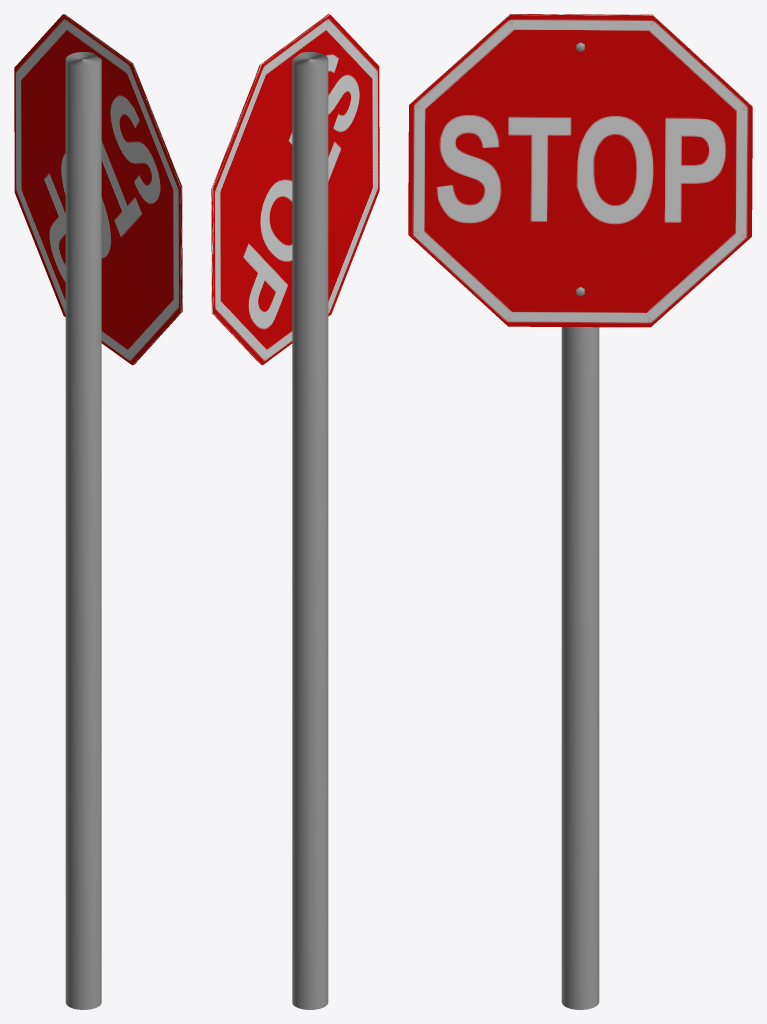
File: StopSign.fbx
3 renders of one model, left to right at view 1: azimuth 30°, elevation 25°; view 2: azimuth 150°, elevation 25°; view 3: azimuth 270°, elevation 25°, orthographic. The views are drawn at different scales.
Parts seen in each view (by area): view 1: Cylinder, Cylinder_001; view 2: Cylinder, Cylinder_001; view 3: Cylinder_001, Cylinder.
Boxes of the visible parts, x1,y1,x2,y2 form: Cylinder: (65, 52, 101, 1009); Cylinder_001: (14, 14, 182, 365); Cylinder: (292, 52, 328, 1009); Cylinder_001: (211, 14, 379, 365); Cylinder_001: (408, 14, 752, 327); Cylinder: (561, 327, 599, 1009).
Bounding box in the file's own units: 0.2202 × 5.9 × 1.85.
Materials: 3 (2 with a texture image).
